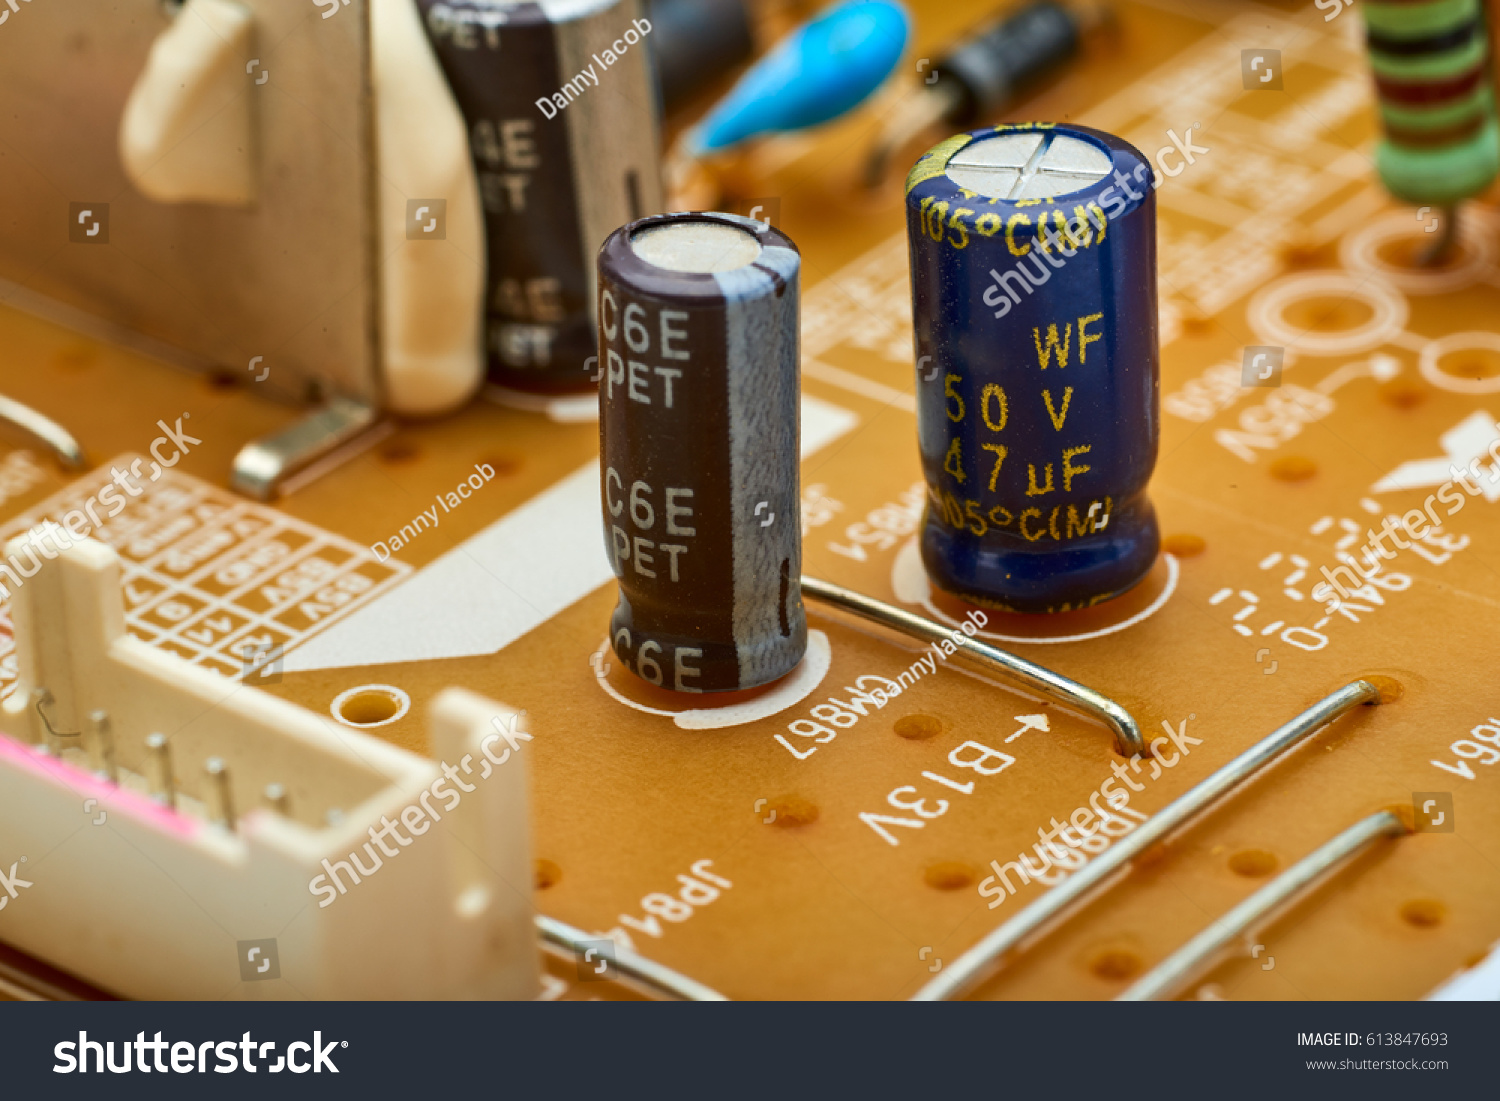capacitor: (869, 99, 1215, 696), (579, 176, 862, 775)
